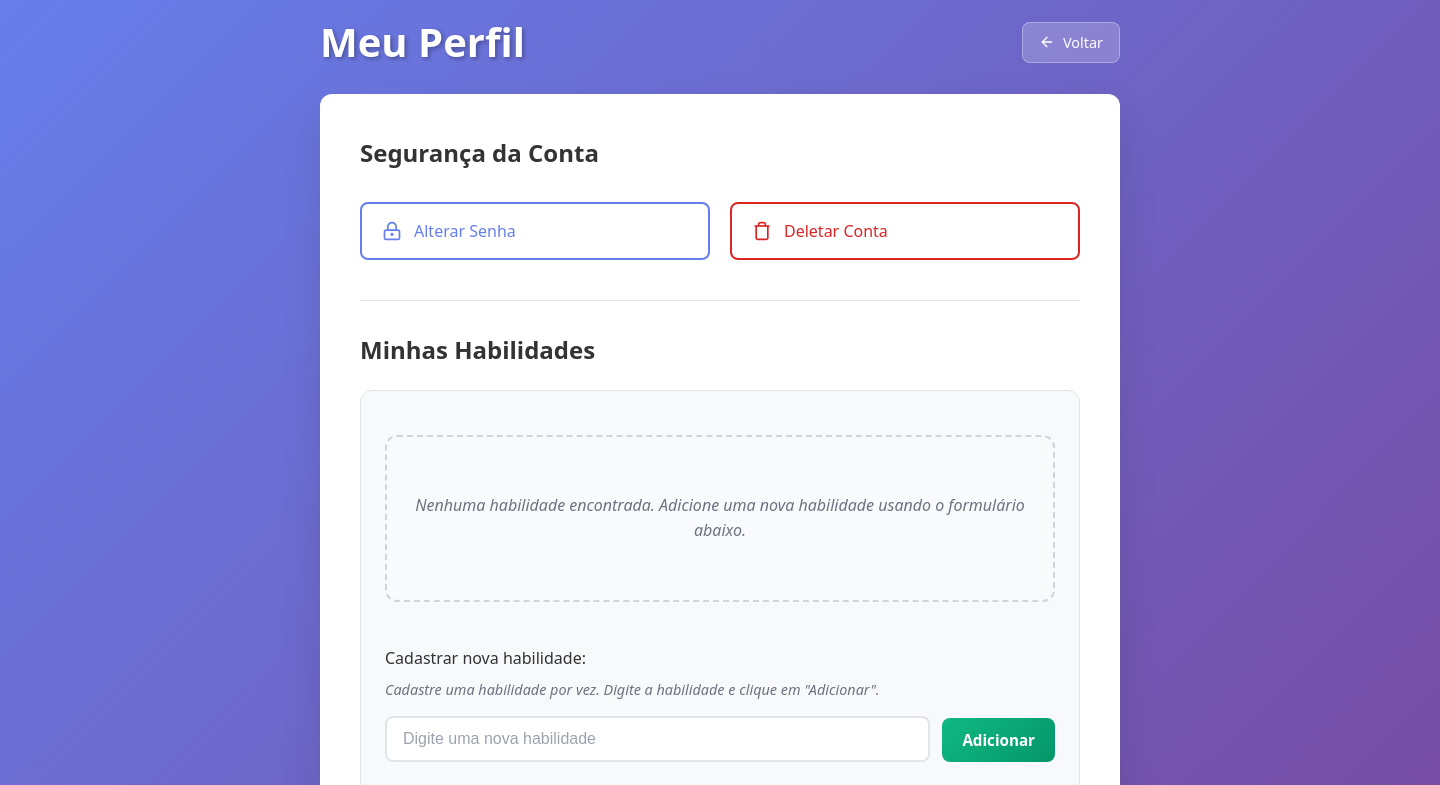
Test: Profile - Skills Auto Focus › trata erro ao adicionar skill
Step 1. Type "React" into the field with placeholder "Digite uma nova habilidade" → [658, 739], box [385,716,930,762]
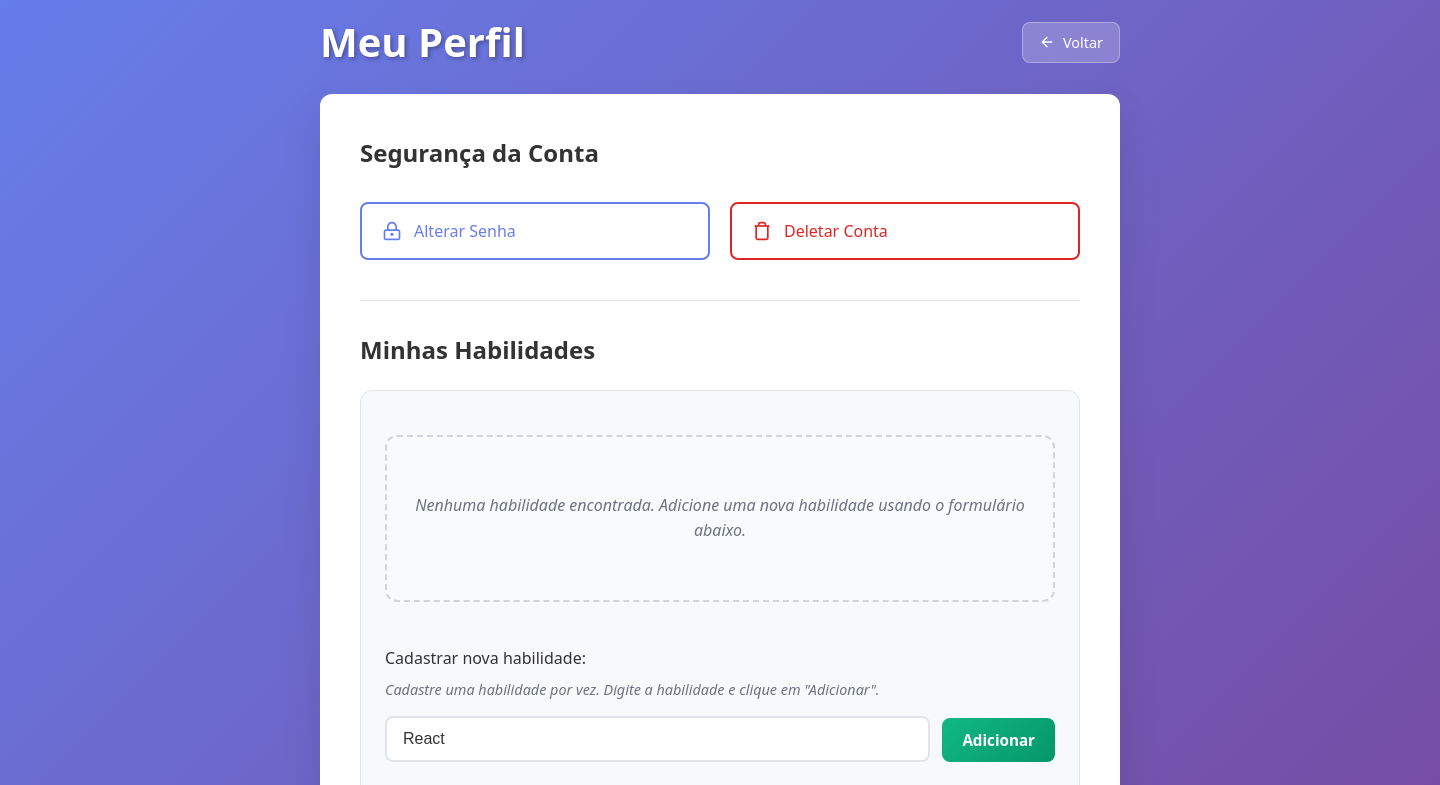
Step 2. Click the button "Adicionar" → [999, 740], box [942,718,1055,762]
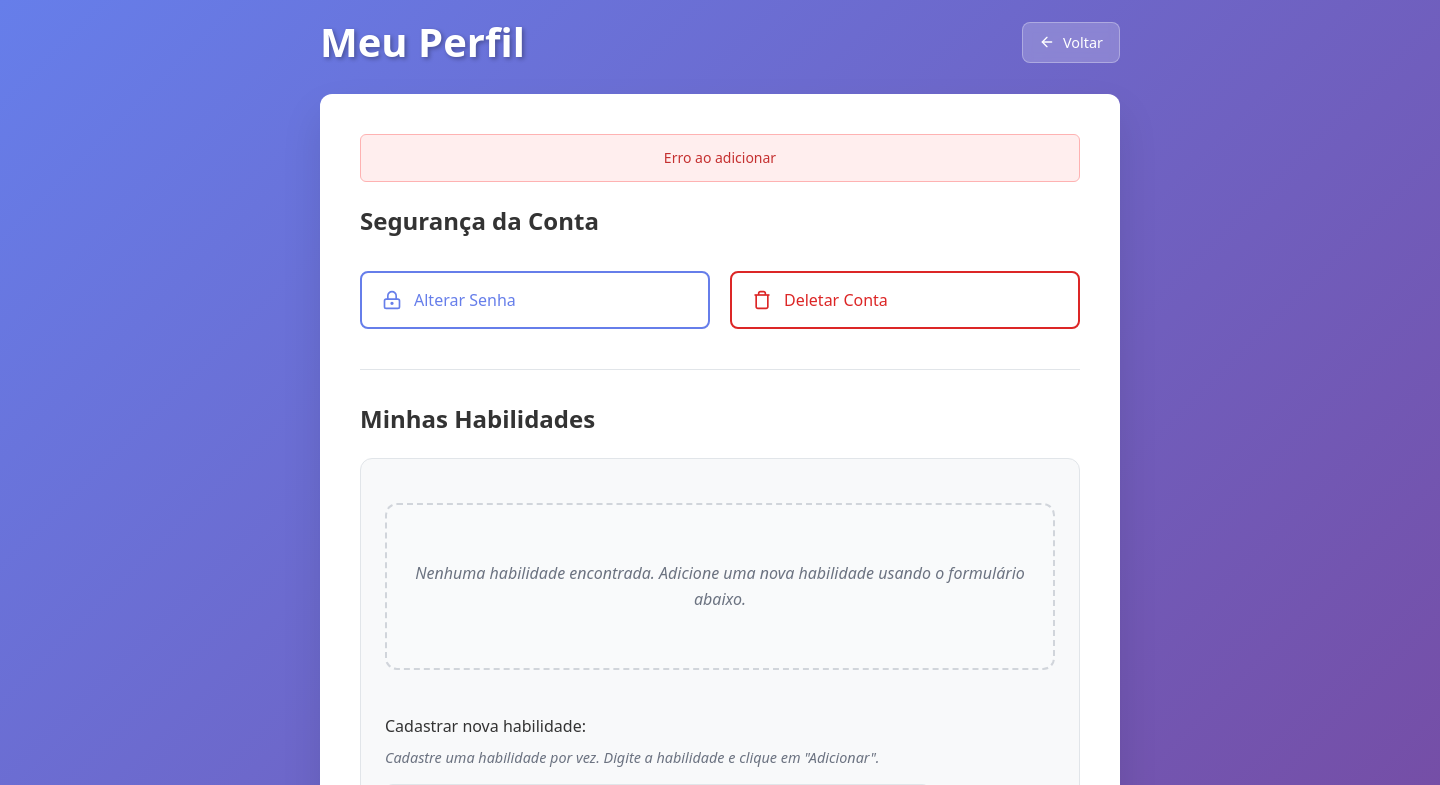
expect the text "Erro ao adicionar" is shown: met, box [360,134,1080,182]
